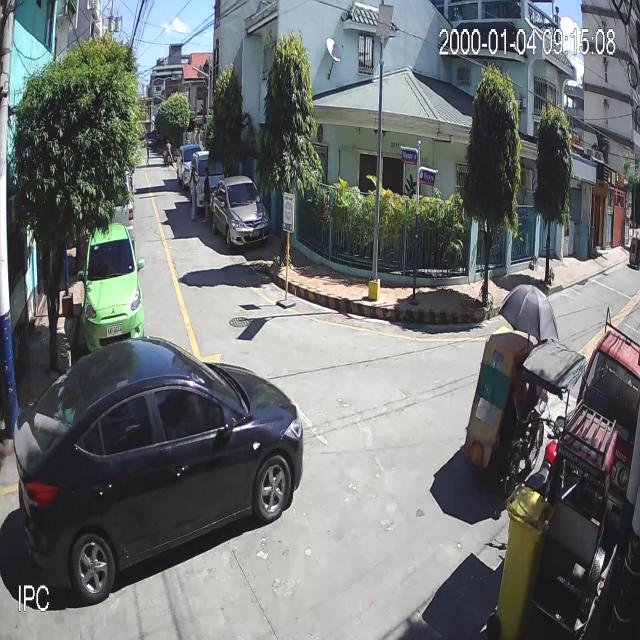standing: (188, 166, 200, 221), (201, 166, 211, 223)
walking: (144, 143, 150, 166)
